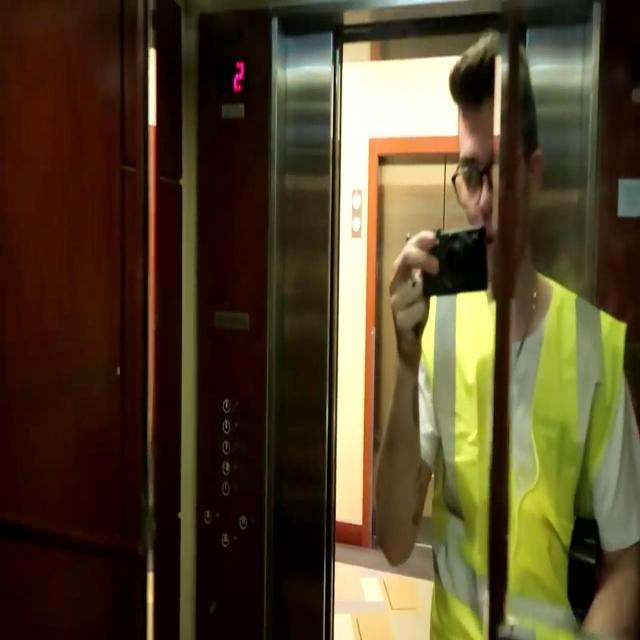Reflective-Jacket: (405, 274, 631, 637)
